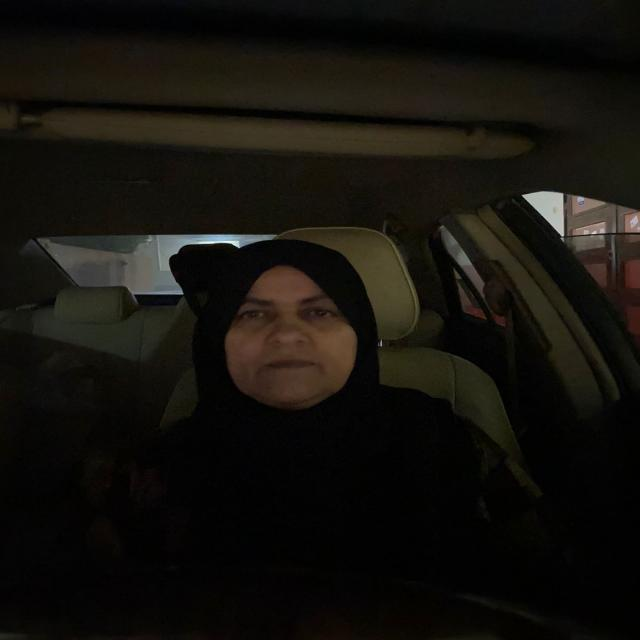person: (202, 229, 374, 432)
